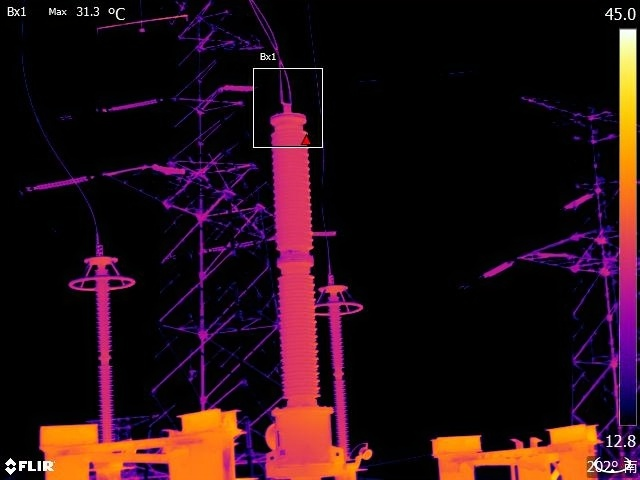insulator: (25, 170, 93, 195), (95, 94, 163, 117), (561, 188, 595, 213), (479, 258, 515, 280)
lightning arrester: (67, 240, 141, 443), (312, 278, 369, 460)
potential transformer: (265, 100, 337, 456)
